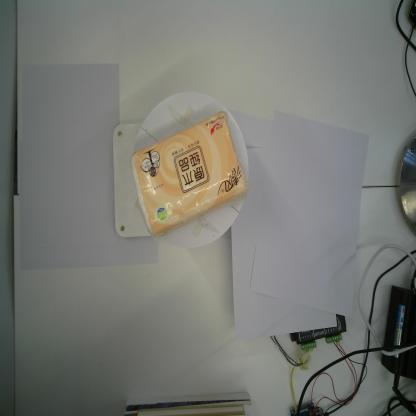Tissue: (131, 109, 254, 239)
